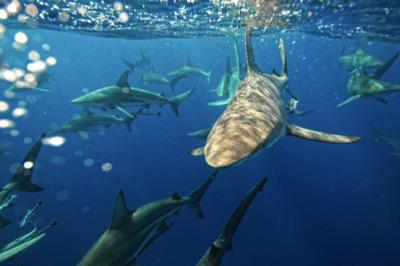Shark -Selachimorpha-: (186, 29, 363, 167), (76, 171, 217, 265), (66, 68, 194, 115), (47, 100, 143, 140), (337, 58, 400, 107), (337, 40, 384, 73)
